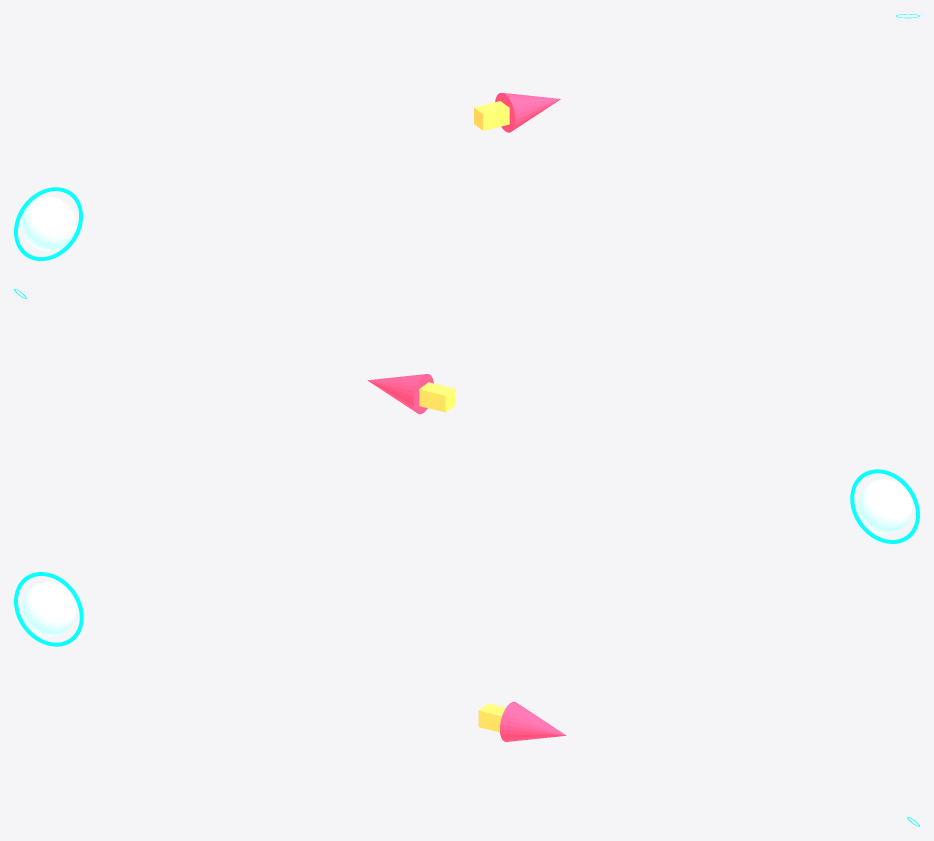
File: cg_projectiles.glb
3 views of the same model, one above another, from view 1: azimuth 30°, elevation 25°; view 2: azimuth 150°, elevation 25°; view 3: azimuth 330°, elevation 25° (orthographic).
Visible parts, largest first — view 1: patch_core_orb, boss_packet_trail, patch_core_spin_ring, boss_packet_core; view 2: patch_core_orb, boss_packet_trail, patch_core_spin_ring, boss_packet_core; view 3: patch_core_orb, boss_packet_trail, patch_core_spin_ring, boss_packet_core.
Boxes of the visible parts, x1,y1,x2,y2 form: patch_core_orb: [21, 197, 75, 251]; boss_packet_trail: [495, 93, 560, 132]; patch_core_spin_ring: [14, 187, 82, 260]; boss_packet_core: [474, 101, 509, 130]; patch_core_orb: [857, 479, 912, 534]; boss_packet_trail: [367, 374, 433, 414]; patch_core_spin_ring: [850, 469, 919, 543]; boss_packet_core: [419, 382, 455, 412]; patch_core_orb: [21, 581, 76, 636]; boss_packet_trail: [500, 701, 566, 741]; patch_core_spin_ring: [14, 572, 83, 646]; boss_packet_core: [478, 703, 505, 732].
Bounding box in the file's own units: 6.09 × 0.464 × 0.32.
